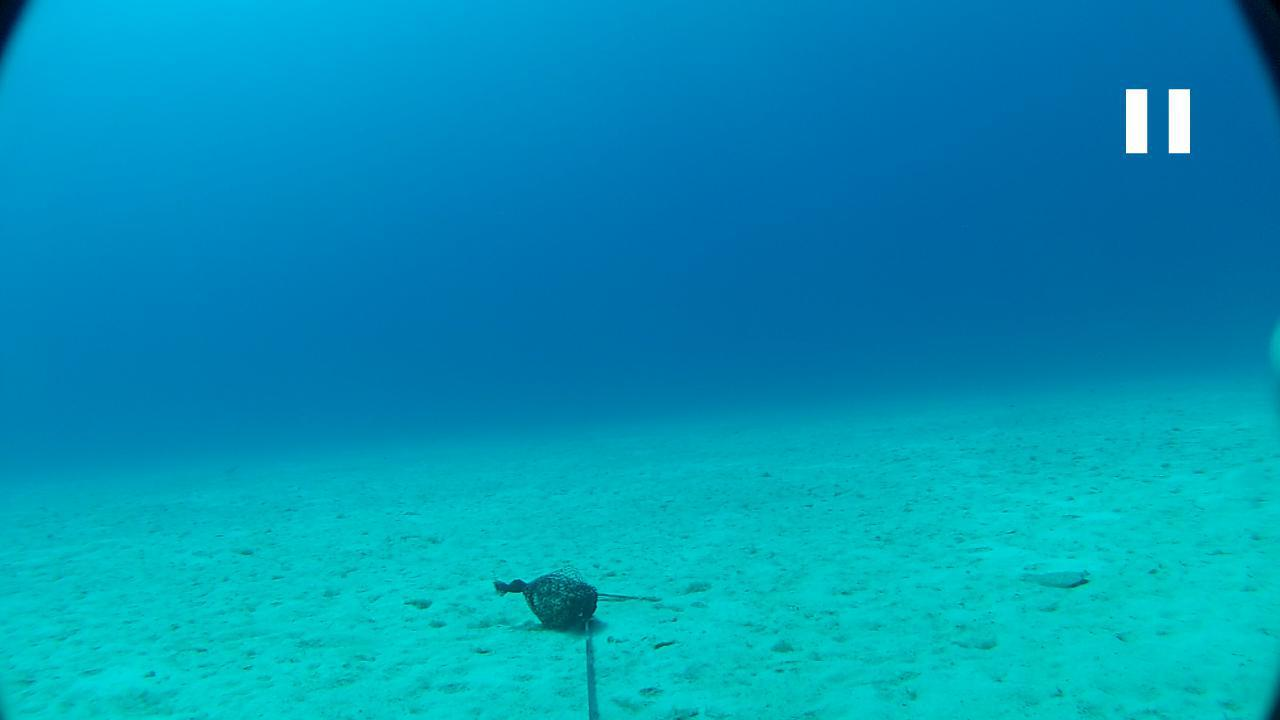bothus: (1016, 562, 1094, 596)
